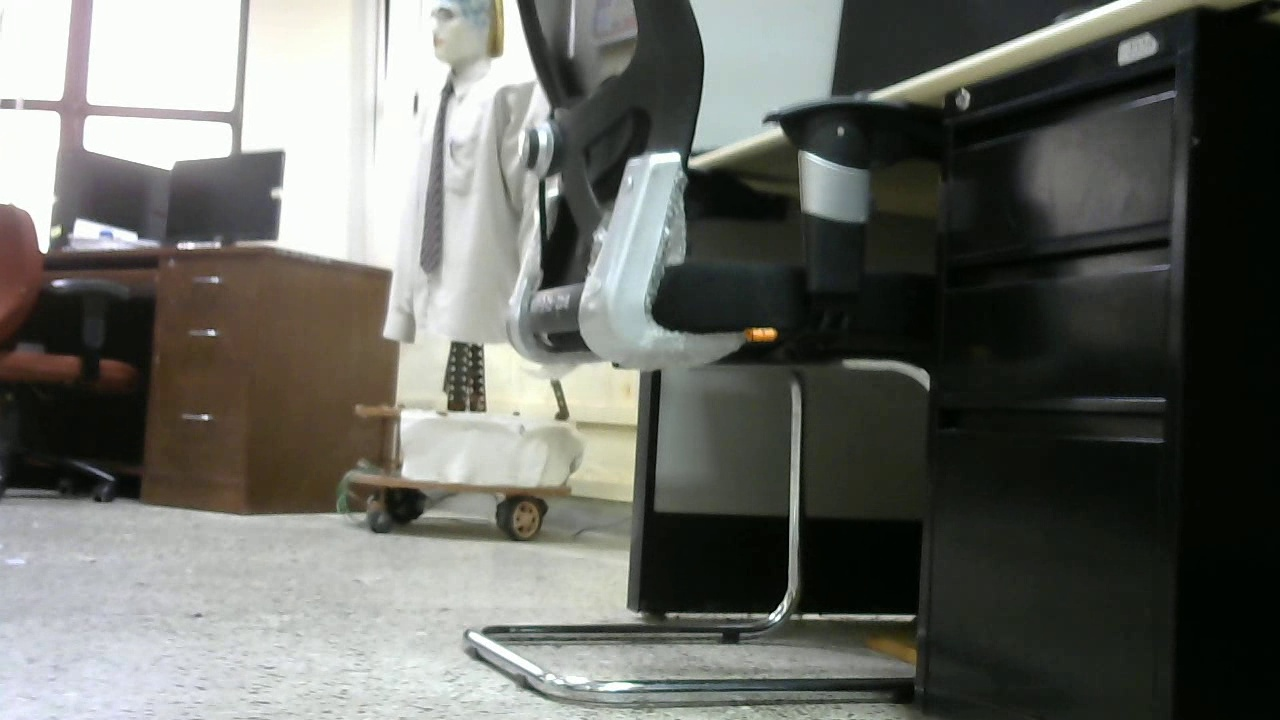chair: (462, 5, 941, 701), (1, 201, 137, 503)
